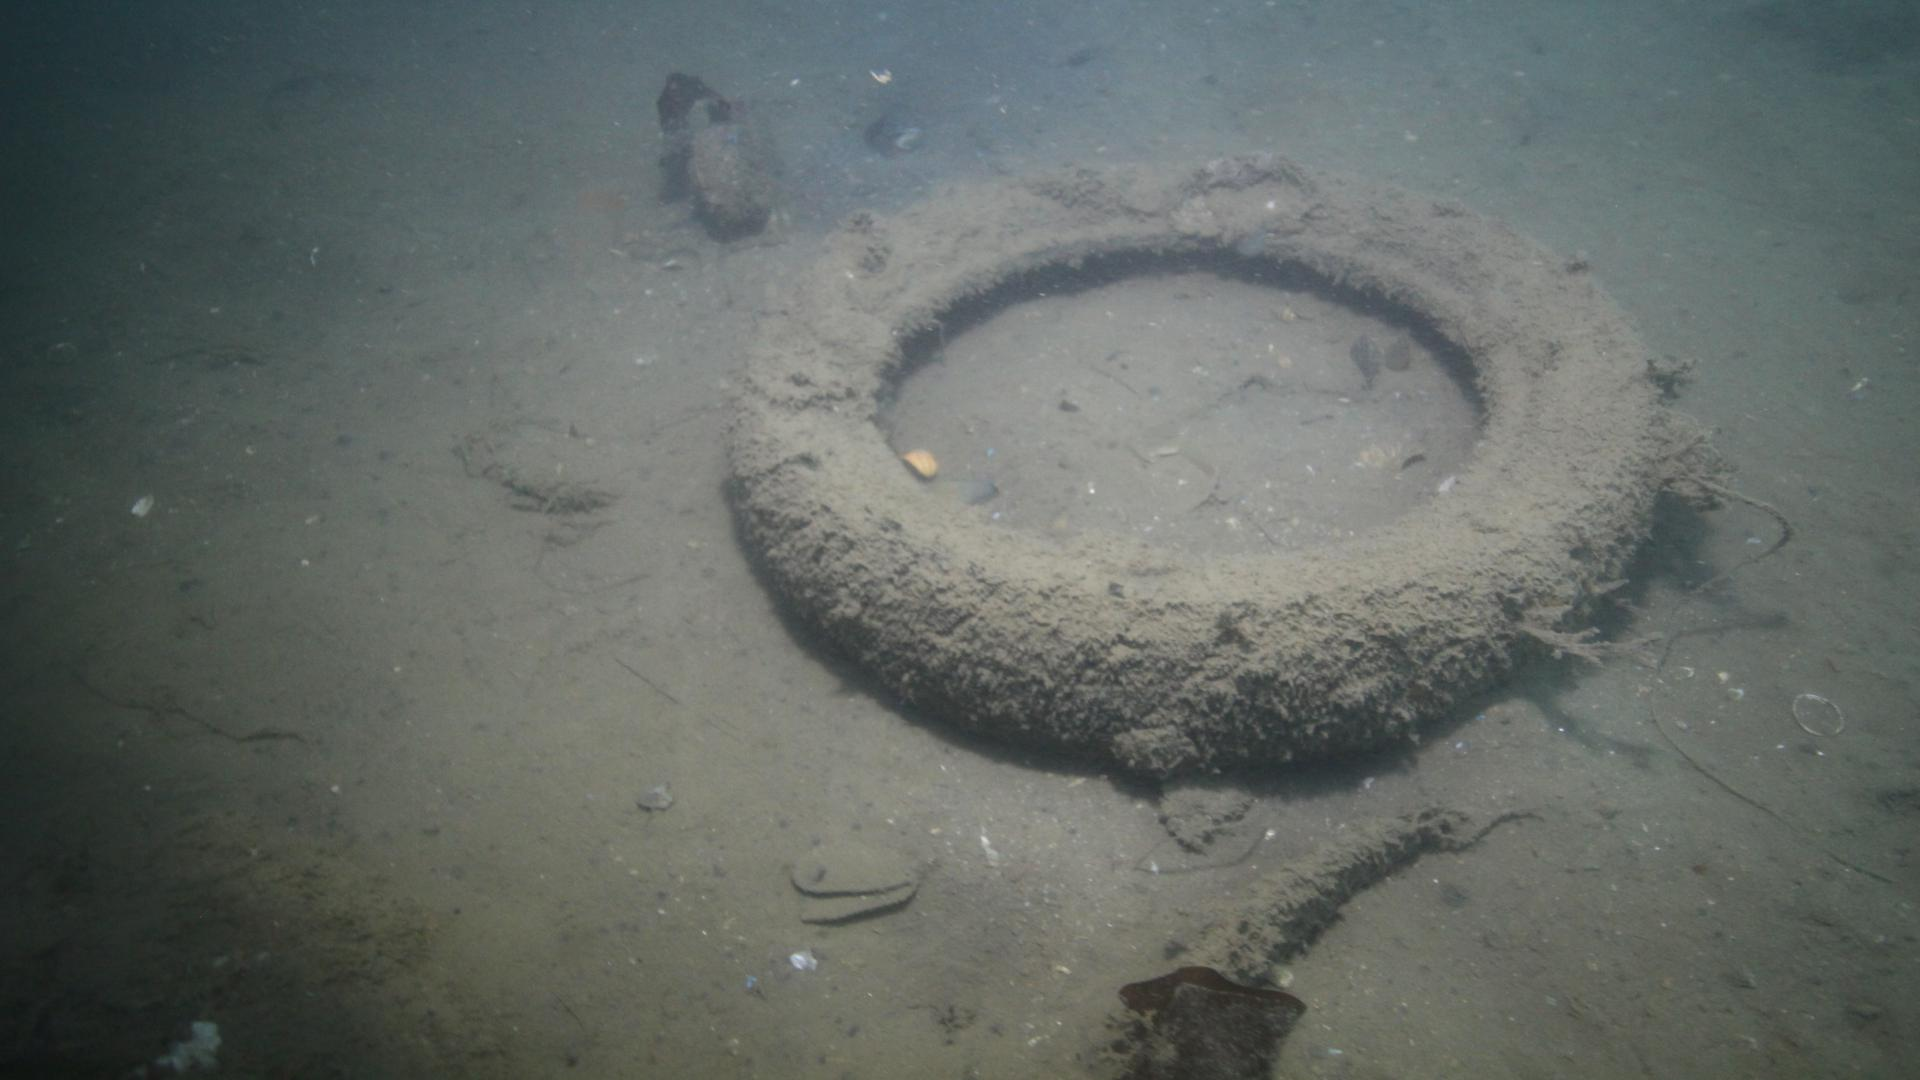tire: (724, 154, 1673, 769)
